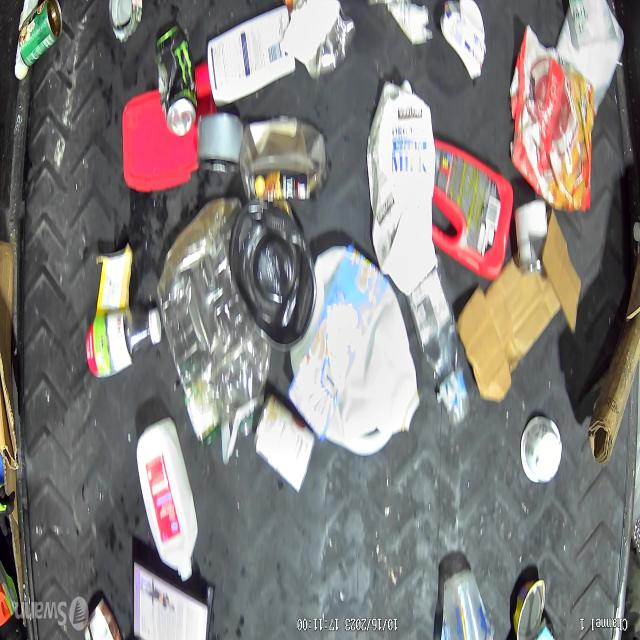can: (156, 22, 198, 136), (18, 0, 63, 70), (513, 196, 549, 280)
milk_jug: (287, 247, 419, 458)
non_white_jug: (432, 140, 512, 281)
plastic_bottle: (155, 196, 272, 438)
